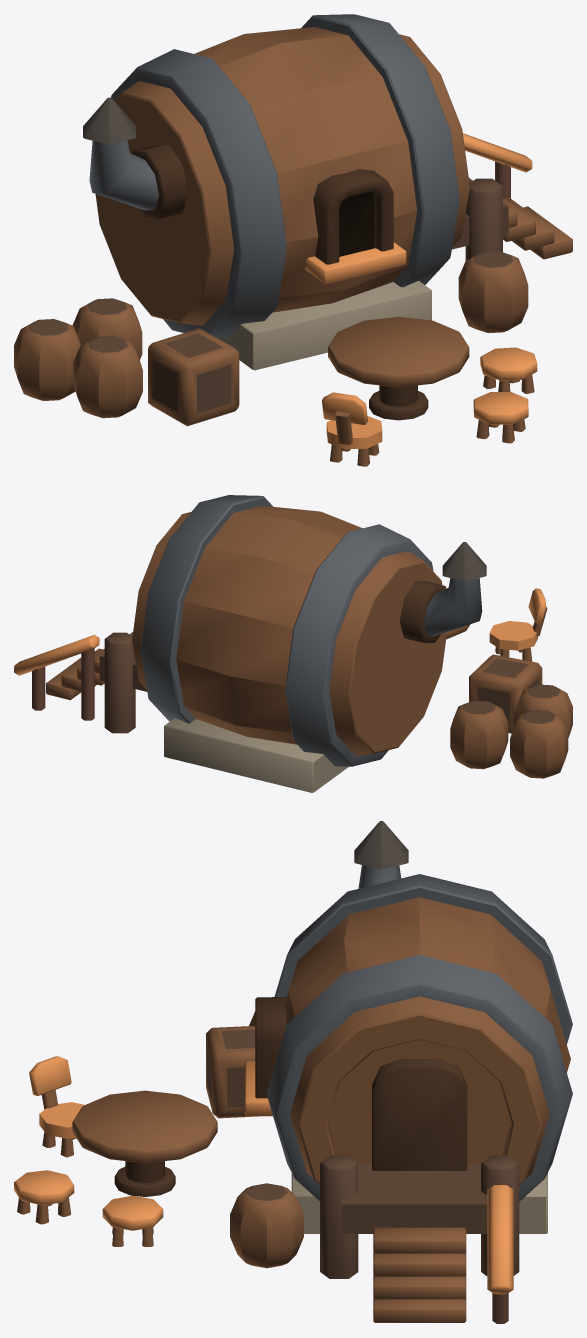
Rendered from Pub.fbx.
3 renders of one model, top to bottom at view 1: azimuth 30°, elevation 25°; view 2: azimuth 150°, elevation 25°; view 3: azimuth 270°, elevation 25°, orthographic. The views are drawn at different scales.
Visible parts, largest first — view 1: Cylinder.292, Cylinder.293, Cylinder.299, Cube.1363, Cube.1550, Cube.1358, Plane.083, Cylinder.327, Cylinder.325, Cylinder.326, Cylinder.294, Cylinder.324 (+9 smaller); view 2: Cylinder.292, Cylinder.293, Cube.1363, Plane.083, Cylinder.326, Cylinder.324, Cube.1550, Cylinder.295, Cylinder.325, Cube.1356, Cylinder.298, Cylinder.300 (+4 smaller); view 3: Cylinder.292, Cylinder.293, Cube.1355, Cylinder.299, Cube.1356, Cube.1354, Cylinder.327, Cylinder.294, Cube.1550, Cylinder.298, Cube.1358, Cube.1363 (+9 smaller).
Boxes of the visible parts, <box> form: Cylinder.292: <box>95,27,469,325</box>; Cylinder.293: <box>111,14,459,338</box>; Cylinder.299: <box>328,316,469,420</box>; Cube.1363: <box>218,281,431,370</box>; Cube.1550: <box>148,328,239,426</box>; Cube.1358: <box>313,169,393,264</box>; Plane.083: <box>89,140,187,218</box>; Cylinder.327: <box>458,251,528,333</box>; Cylinder.325: <box>73,336,142,418</box>; Cylinder.326: <box>14,319,80,400</box>; Cylinder.294: <box>465,178,502,260</box>; Cylinder.324: <box>72,298,142,359</box>; Cylinder.292: <box>132,505,446,755</box>; Cylinder.293: <box>140,495,433,766</box>; Cube.1363: <box>164,718,348,792</box>; Plane.083: <box>399,578,482,642</box>; Cylinder.326: <box>510,710,568,778</box>; Cylinder.324: <box>450,700,508,769</box>; Cube.1550: <box>469,654,542,733</box>; Cylinder.295: <box>104,632,135,733</box>; Cylinder.325: <box>514,684,572,737</box>; Cube.1356: <box>46,648,104,700</box>; Cylinder.298: <box>14,635,99,675</box>; Cylinder.300: <box>489,621,537,650</box>; Cylinder.292: <box>284,897,570,1184</box>; Cylinder.293: <box>266,874,572,1201</box>; Cube.1355: <box>372,1059,467,1170</box>; Cylinder.299: <box>72,1090,217,1196</box>; Cube.1356: <box>373,1227,466,1322</box>; Cube.1354: <box>341,1163,487,1233</box>; Cylinder.327: <box>230,1183,303,1268</box>; Cylinder.294: <box>320,1155,358,1278</box>; Cube.1550: <box>206,1026,258,1118</box>; Cylinder.298: <box>487,1185,513,1294</box>; Cube.1358: <box>255,997,286,1098</box>; Cube.1363: <box>291,1173,547,1233</box>.
Bounding box in the file's own units: 204 × 91.25 × 165.
